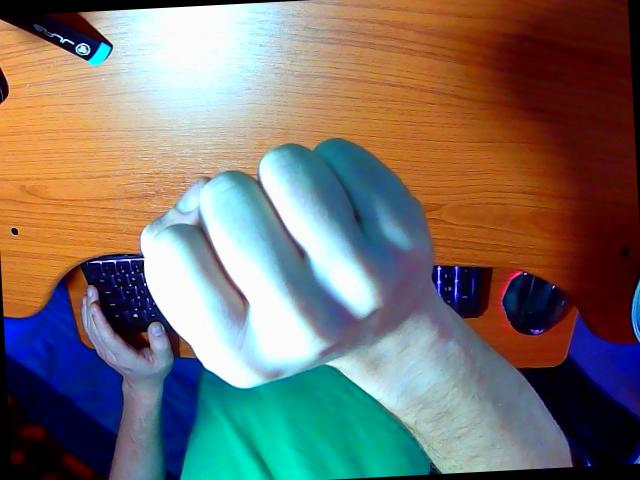rock: (141, 141, 432, 386)
